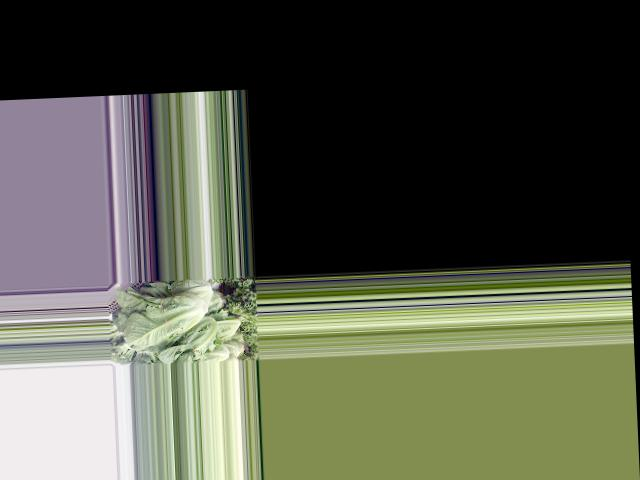lettuce: (153, 317, 221, 361)
